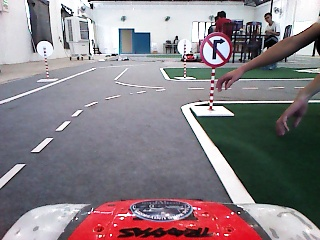ban: (199, 31, 233, 68)
